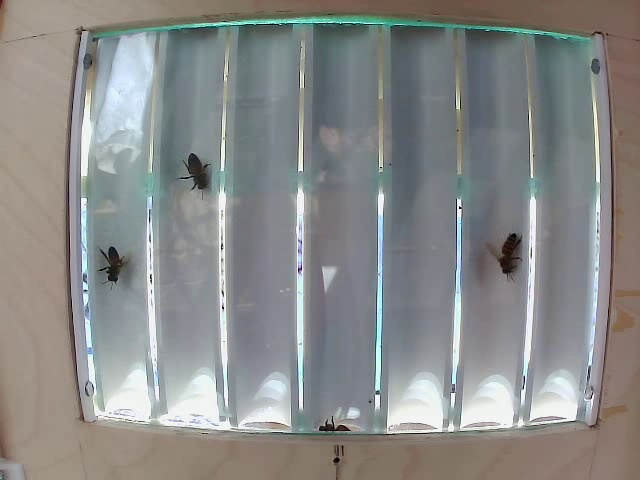bee: (88, 233, 127, 295), (486, 231, 528, 283), (186, 150, 208, 198)
